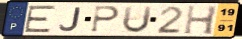2: (157, 5, 184, 35)
E: (23, 4, 58, 33)
H: (182, 4, 219, 36)
J: (58, 6, 82, 32)
P: (89, 5, 122, 34)
U: (121, 5, 154, 34)
